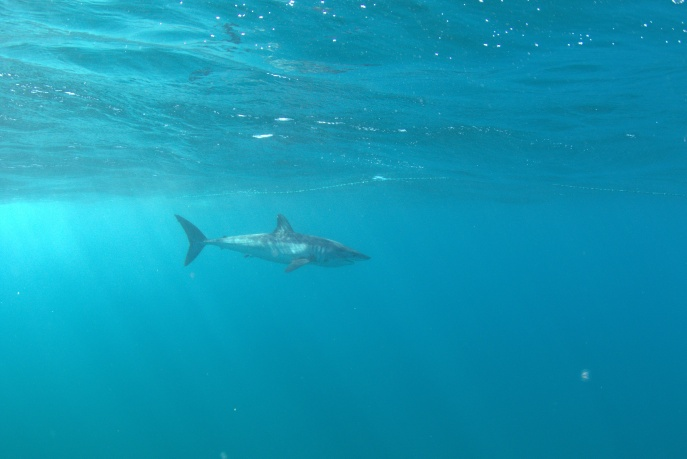Mako: (162, 200, 374, 283)
